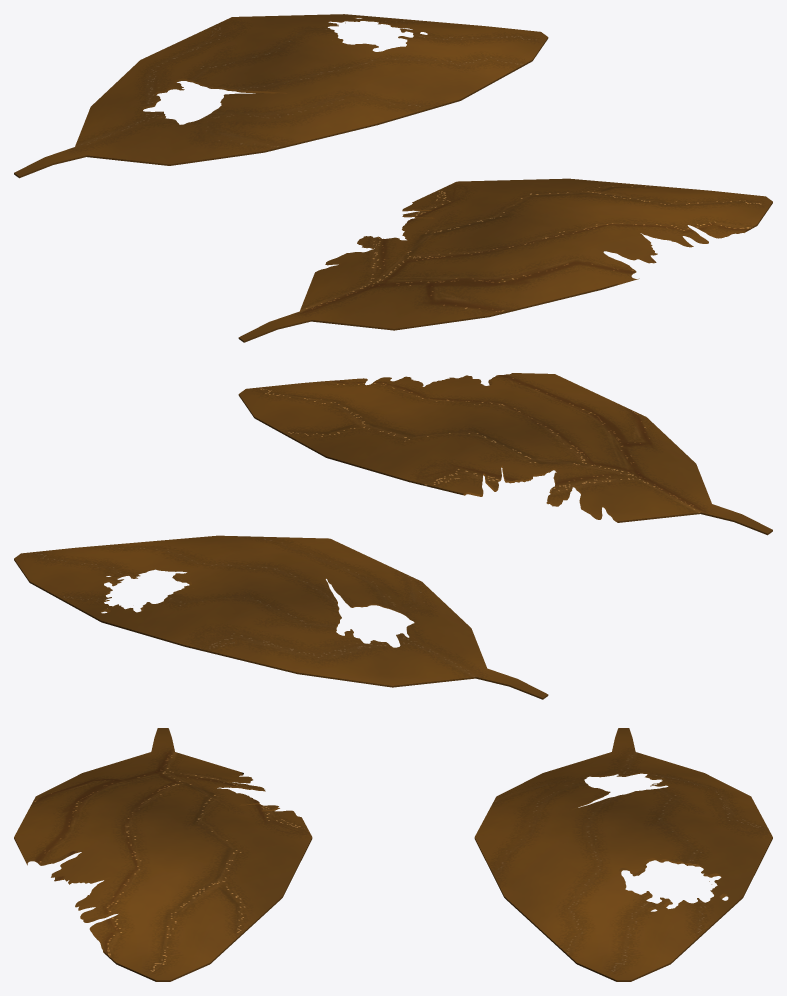
File: Falling_leaf.fbx
The picture shows the model from 3 angles, top to bottom: view 1: azimuth 30°, elevation 25°; view 2: azimuth 150°, elevation 25°; view 3: azimuth 270°, elevation 25°; orthographic projection. The views are drawn at different scales.
Visible parts, largest first — view 1: pPlane4, pPlane3; view 2: pPlane3, pPlane4; view 3: pPlane3, pPlane4.
Part boxes in pixels (left/top/right/bottom): pPlane4: left=14, top=14, right=548, bottom=178; pPlane3: left=238, top=178, right=772, bottom=342; pPlane3: left=238, top=373, right=772, bottom=535; pPlane4: left=14, top=535, right=548, bottom=699; pPlane3: left=14, top=728, right=312, bottom=981; pPlane4: left=474, top=728, right=772, bottom=981.
Bounding box in the file's own units: 18.23 × 1.52 × 22.15.
